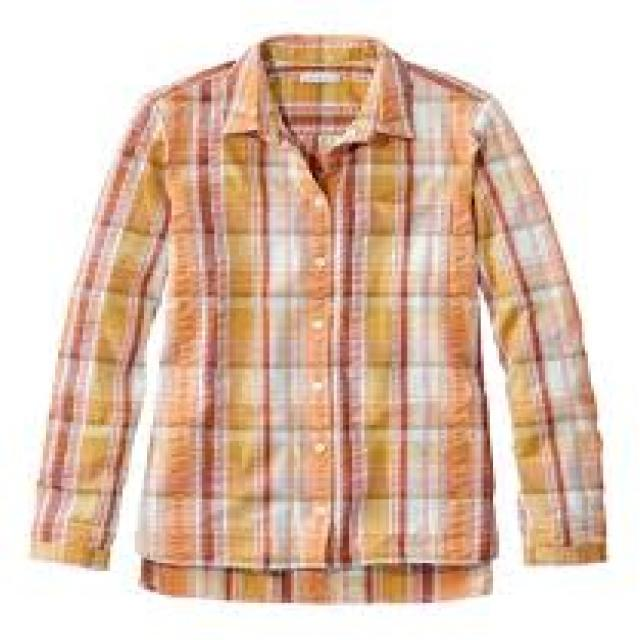plaid: (25, 30, 608, 607)
